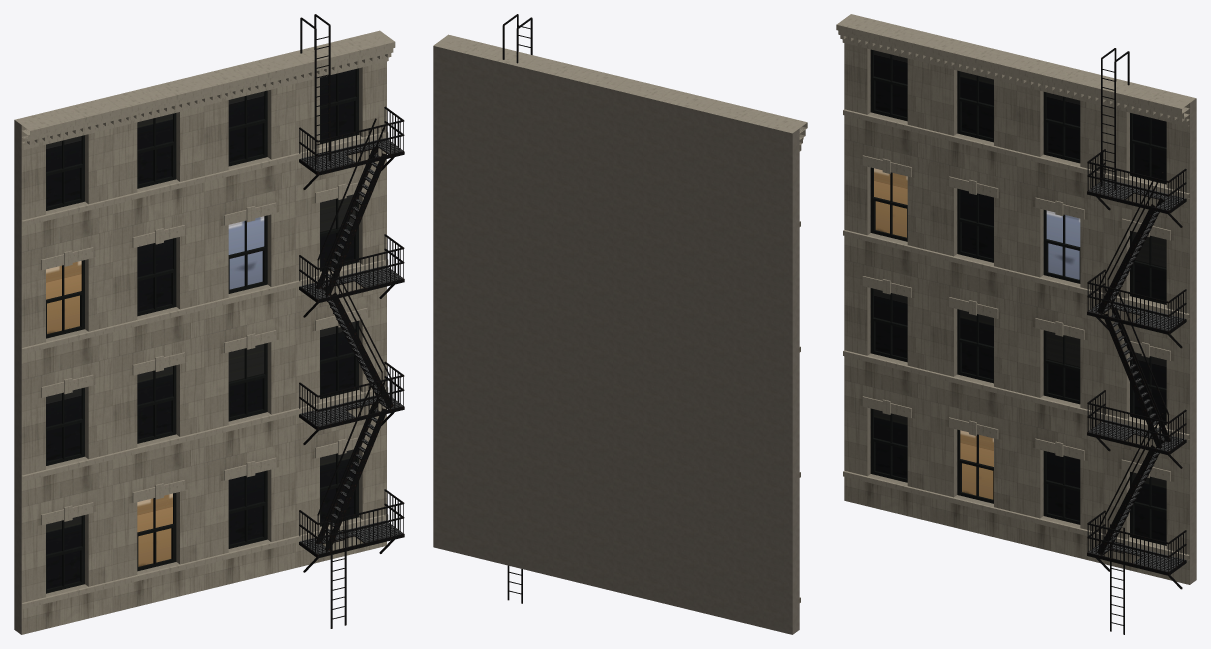
Rendered from SM_StoneFacade.glb.
The picture shows the model from 3 angles, left to right: view 1: azimuth 30°, elevation 25°; view 2: azimuth 150°, elevation 25°; view 3: azimuth 330°, elevation 25°; orthographic projection. The views are drawn at different scales.
Visible parts, largest first — view 1: SM_StoneFacade; view 2: SM_StoneFacade; view 3: SM_StoneFacade.
Boxes of the visible parts, x1=… form: SM_StoneFacade: x1=14, y1=14, x2=404, y2=634; SM_StoneFacade: x1=433, y1=14, x2=807, y2=634; SM_StoneFacade: x1=836, y1=14, x2=1196, y2=634.
Bounding box in the file's own units: 12 × 18.87 × 1.53.
Materials: 2 (2 with a texture image).
